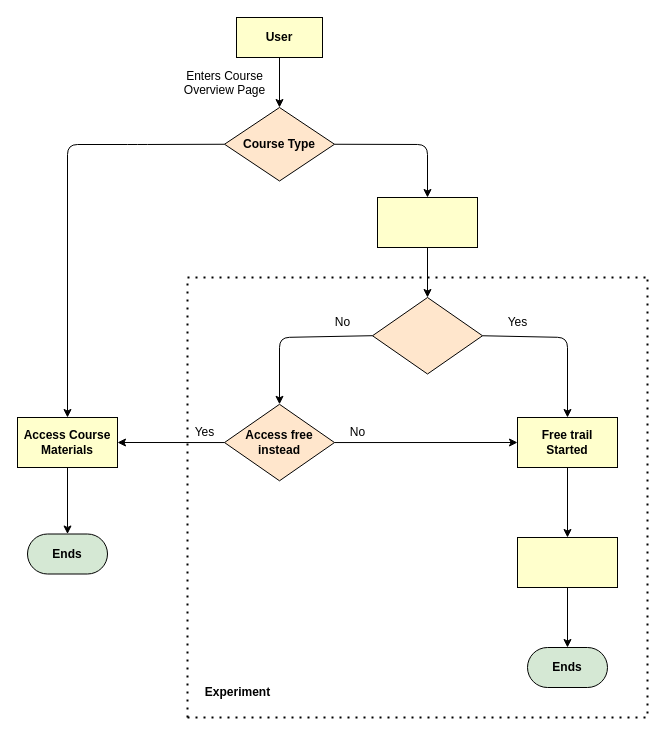
This 667x737 diagram has some shape labels left out. Here are the shapes that lost their labels. From the top down, the box of each, then its label:
(376, 196, 478, 248): Start Free Trail
(372, 296, 482, 374): Spend 5 hours or more
(516, 536, 618, 588): Make at-least 1 payment
